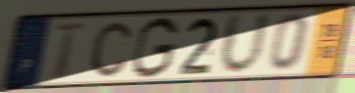0: (267, 12, 311, 74)
2: (178, 15, 219, 77)
C: (89, 20, 134, 79)
G: (129, 15, 181, 81)
T: (52, 21, 89, 81)
U: (217, 10, 273, 78)
